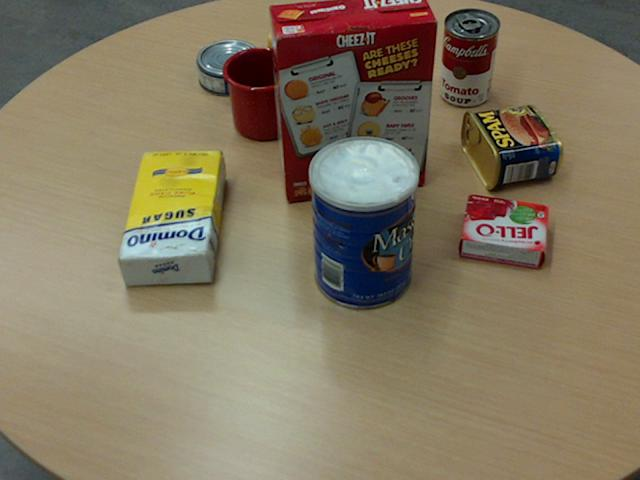cracker_box: (268, 0, 437, 200)
gelatin_box: (458, 193, 550, 266)
large_marker: (396, 40, 417, 130)
master_chef_can: (308, 135, 418, 309)
mug: (221, 46, 312, 140)
mustard_bottle: (267, 10, 407, 91)
potted_meat_can: (459, 104, 561, 189)
sugar_box: (116, 149, 223, 285)
tomato_soup_can: (439, 8, 499, 106)
tuna_fish_can: (195, 38, 261, 95)
